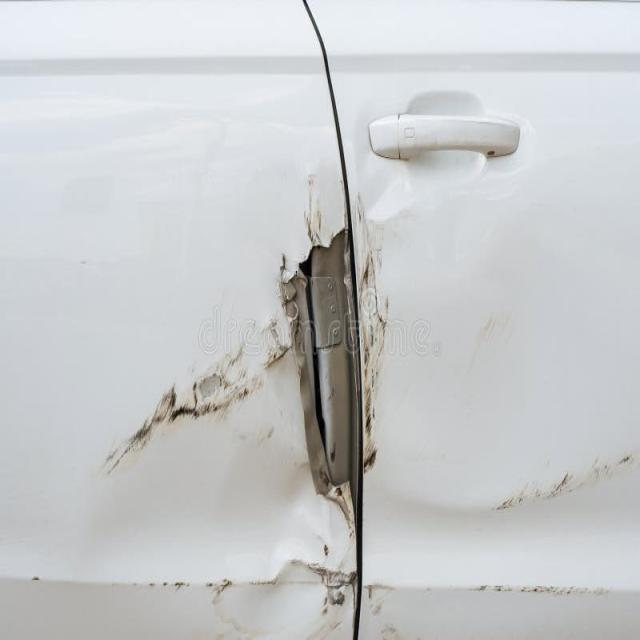crush: (0, 140, 640, 640)
